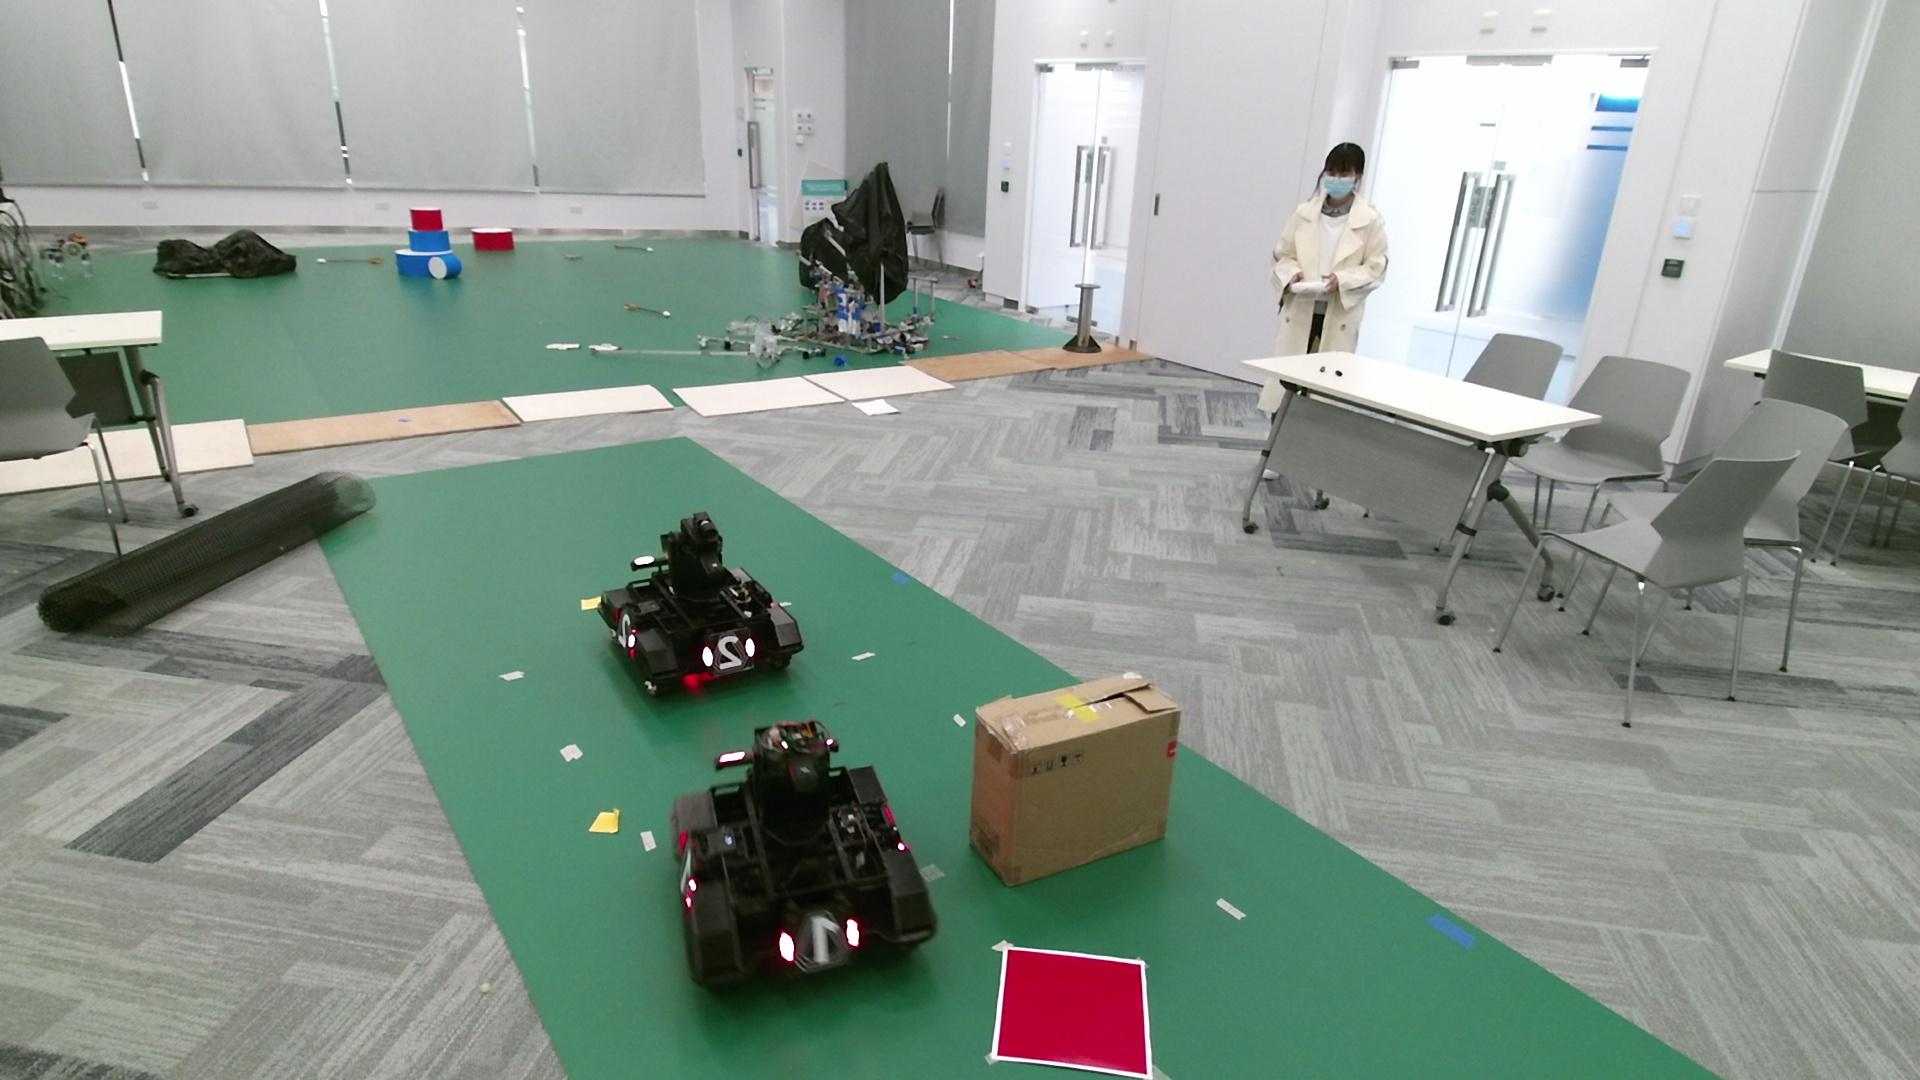robot: (669, 719, 939, 996), (596, 510, 803, 698)
